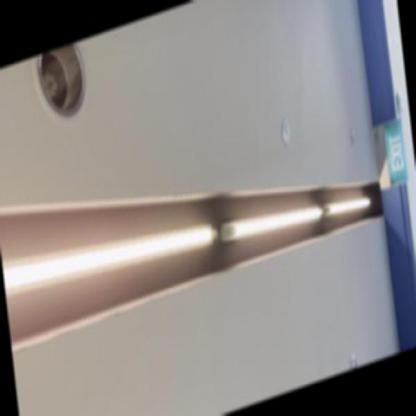light_on: (1, 180, 218, 318), (221, 185, 326, 260), (324, 175, 374, 224)
